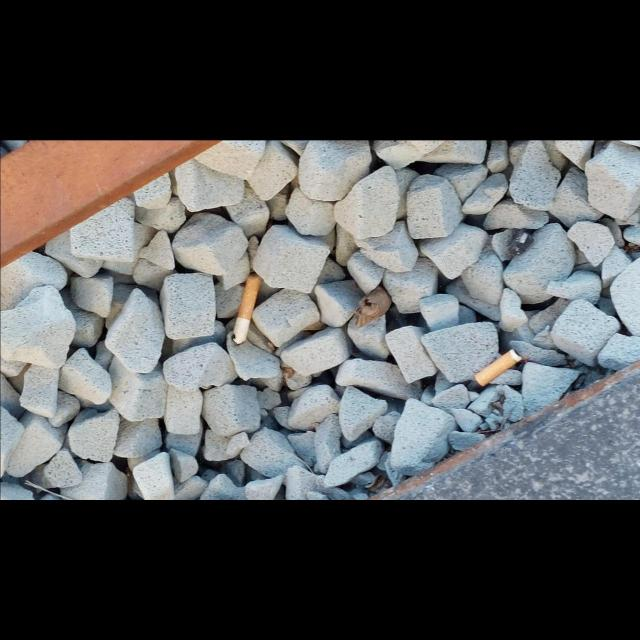cigarette: (231, 272, 261, 346), (473, 348, 522, 387)
